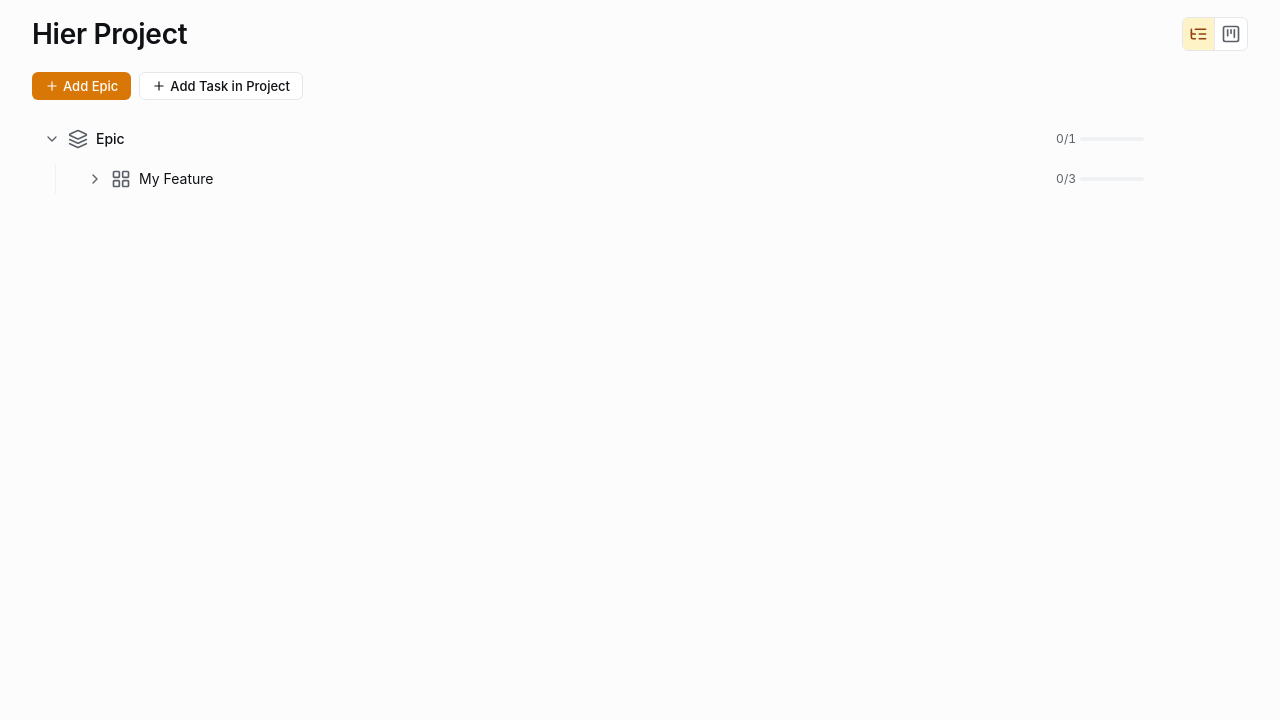
TreeView — parent completion blocking for Feature › clicking "Mark complete" on a Feature shows ConfirmationPrompt with correct title, body, and confirm label
Right-click the button "My Feature 0/3".
right_click(1112, 179)  # box [32,160,1248,198]
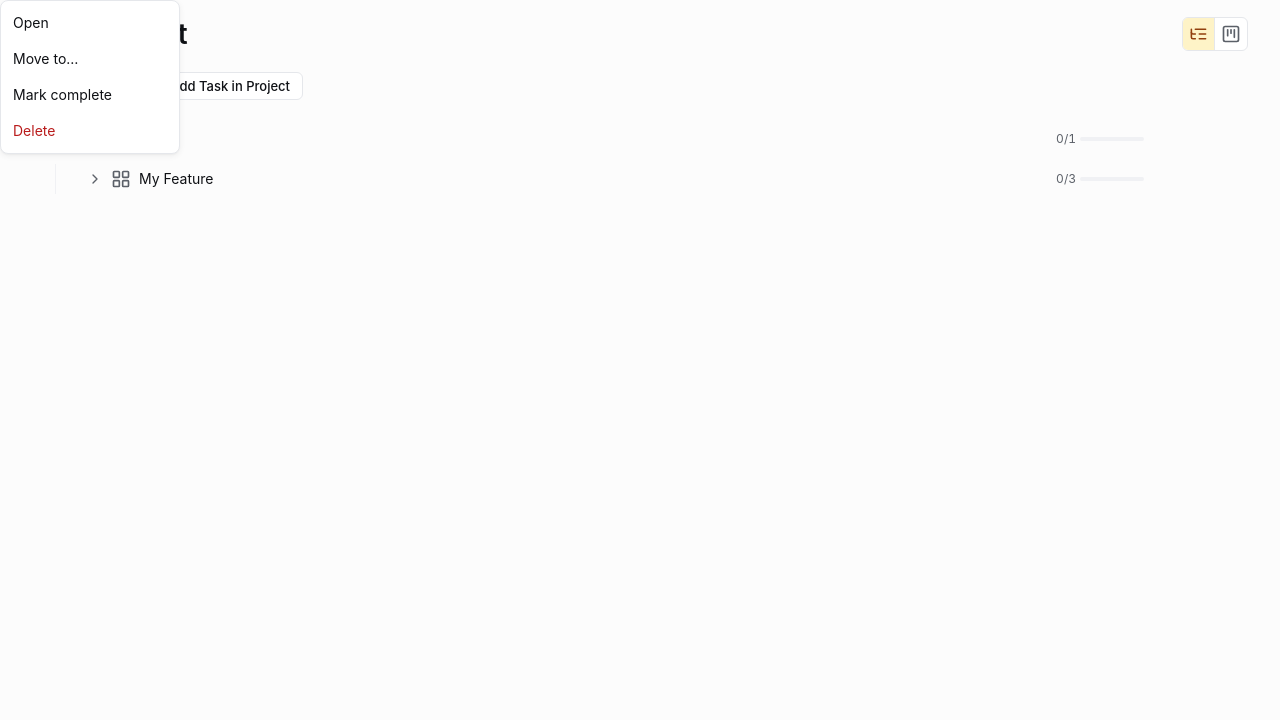
Expected: the menu item "Mark complete" is shown
Click the menu item "Mark complete".
click(90, 95)  # box [1,77,179,113]
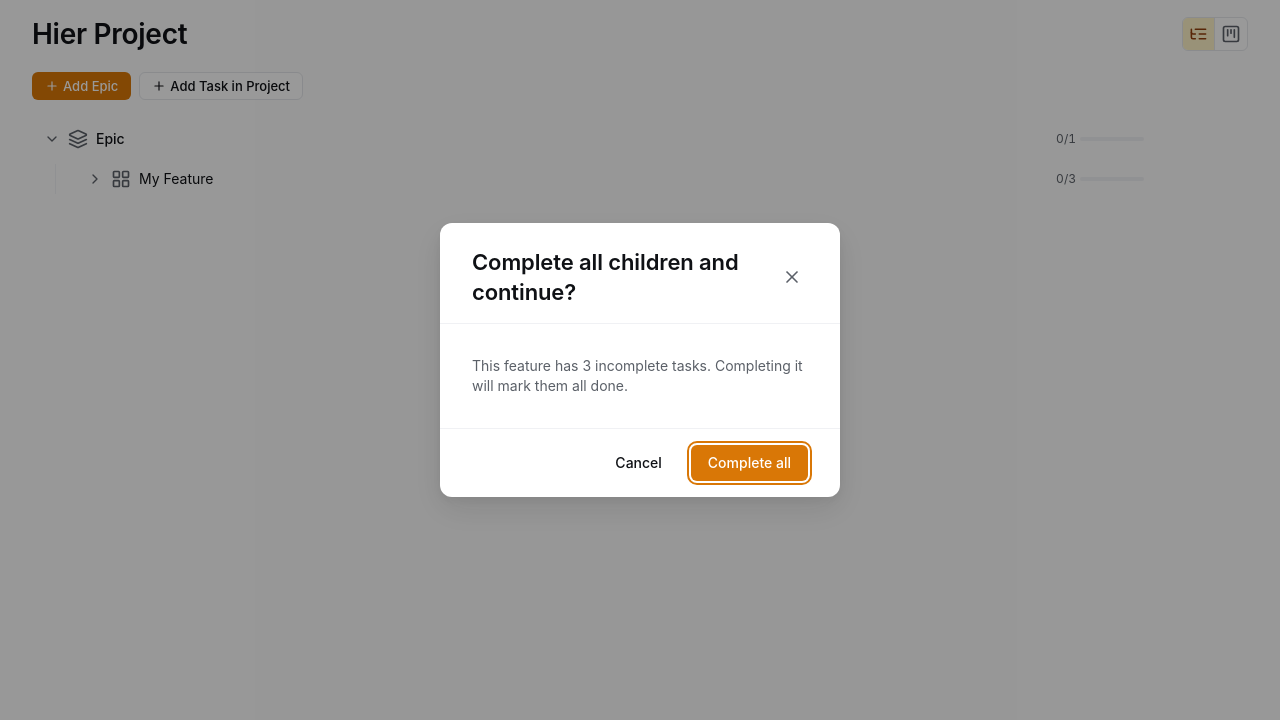
Expected: the heading "Complete all children and continue?" is shown, [472,247,776,307]
Expected: the text "This feature has 3 incomplete tasks. Completing it will mark them all done." is shown, [472,356,808,396]
Expected: the button "Complete all" is shown, [691,445,808,481]
